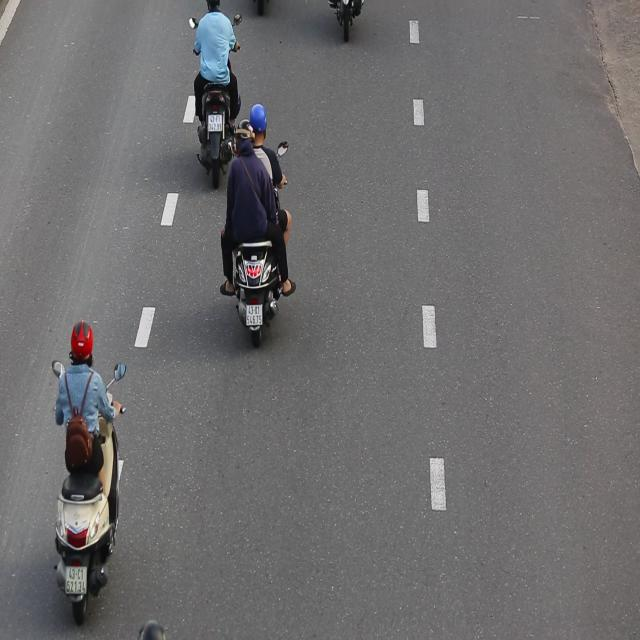motorbike: (47, 316, 128, 626), (220, 97, 299, 350)
